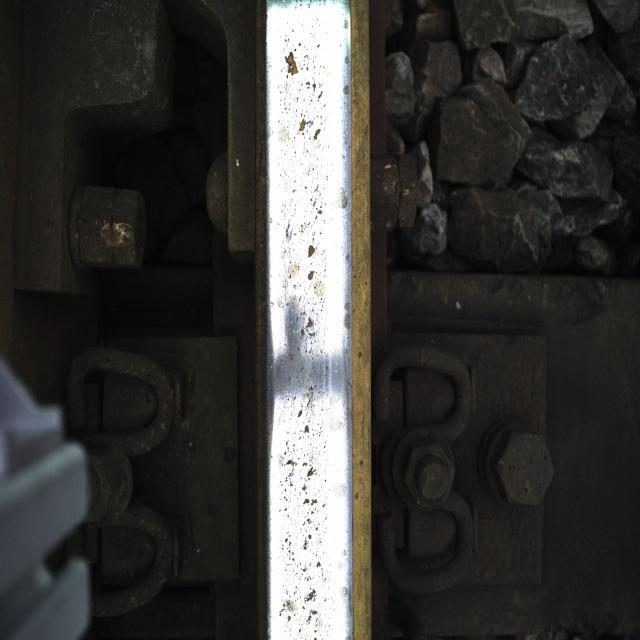scar: (261, 3, 353, 640)
